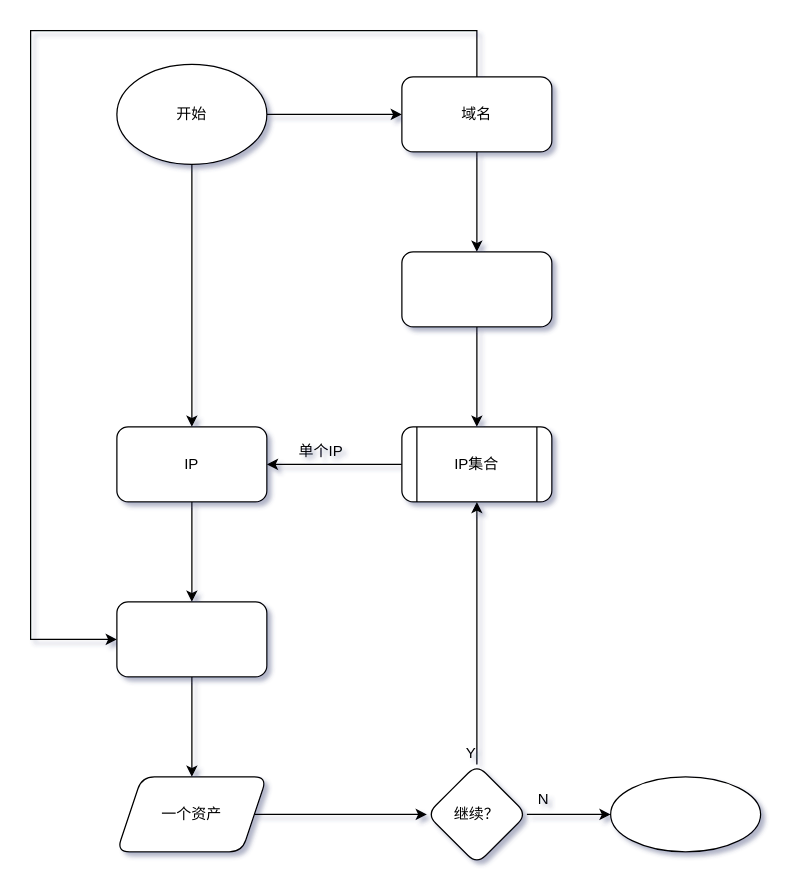
Some shapes in this 790 by 894 pixel diagram are drawn without their labels. Here are the shapes that lost their labels. From the top down, the box of each, then its label:
(401, 251, 552, 327): 扫描子域
(116, 601, 267, 677): 端口探测
(609, 776, 761, 852): 结束
